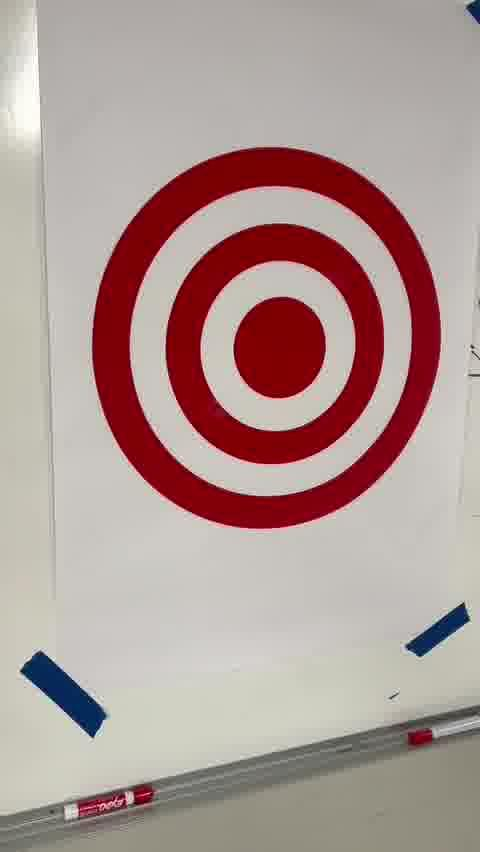target_red: (91, 145, 442, 531)
